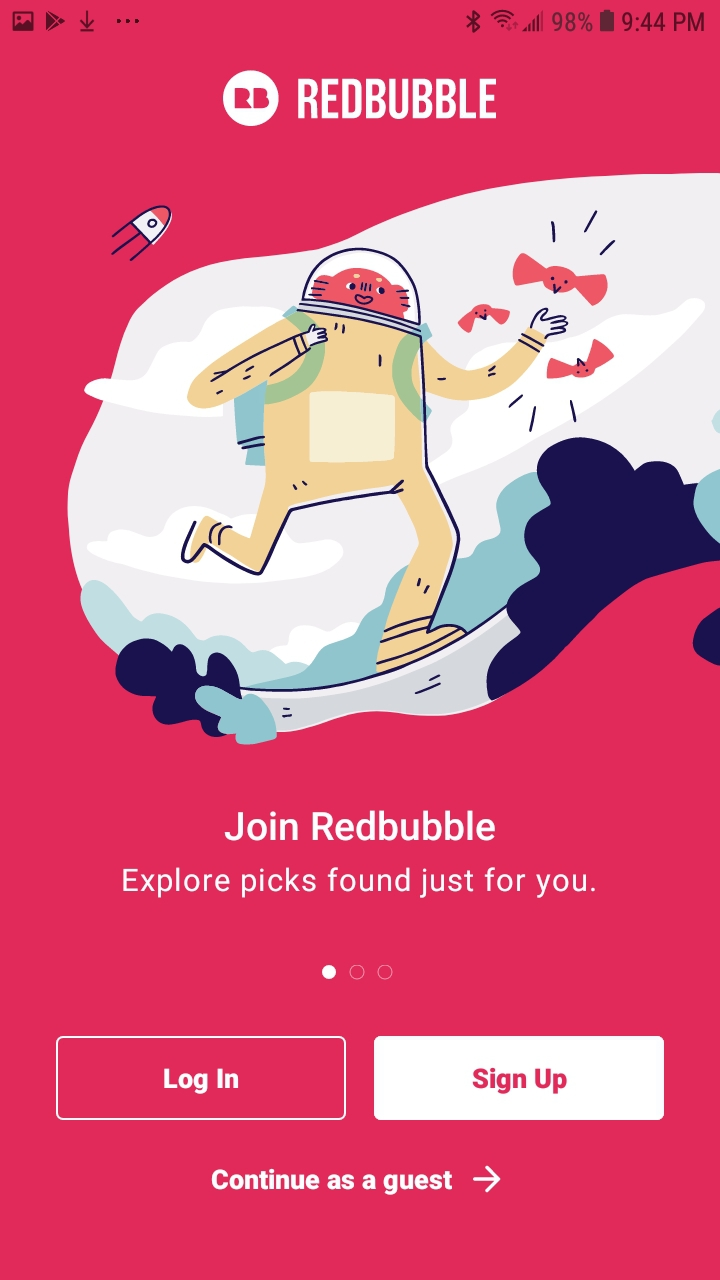Icon: (473, 1164, 501, 1193)
Image: (66, 173, 720, 745), (222, 71, 280, 128)
PageIndicator: (321, 964, 394, 981)
Text: (123, 866, 596, 899), (224, 809, 496, 842), (298, 79, 497, 121), (211, 1168, 453, 1196)
TextButton: (56, 1036, 347, 1121), (374, 1036, 665, 1121)
UpperTaskBar: (1, 1, 720, 37)
